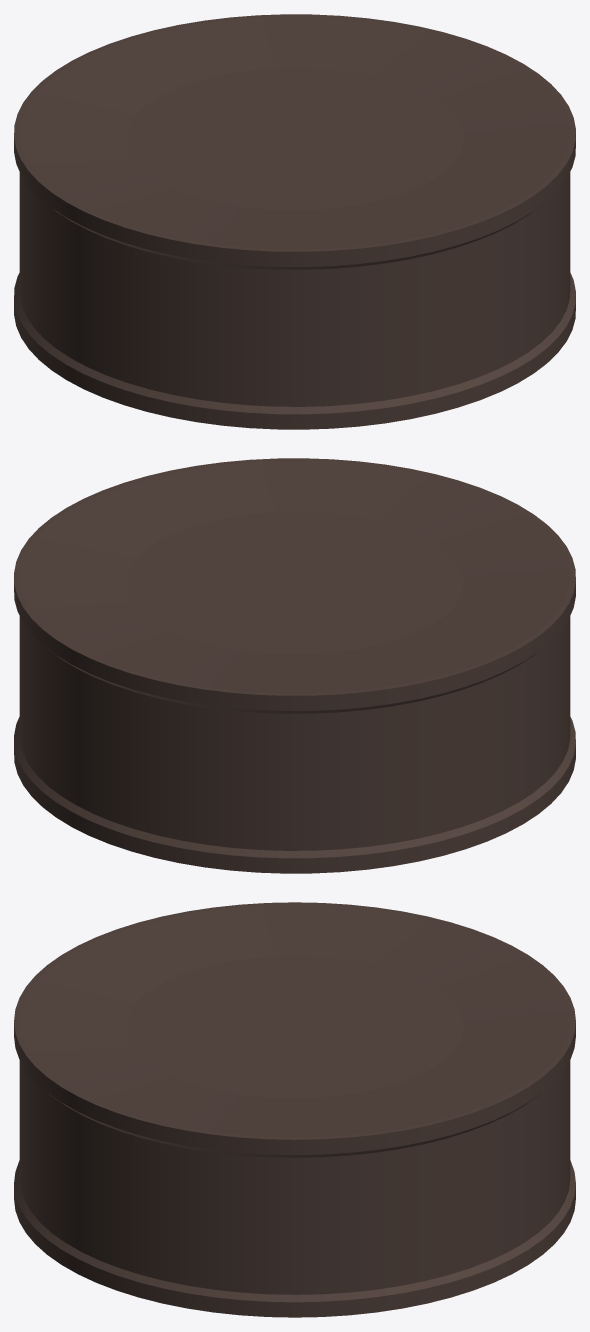
3 views of the same model, one above another, from view 1: azimuth 30°, elevation 25°; view 2: azimuth 150°, elevation 25°; view 3: azimuth 270°, elevation 25° (orthographic).
Visible parts, largest first — view 1: drum; view 2: drum; view 3: drum.
Part boxes in pixels (x1,y1,x2,y2): drum: (14,14,575,429); drum: (14,458,575,873); drum: (14,902,575,1317).
Bounding box in the file's own units: 0.1 × 0.0349 × 0.1.
